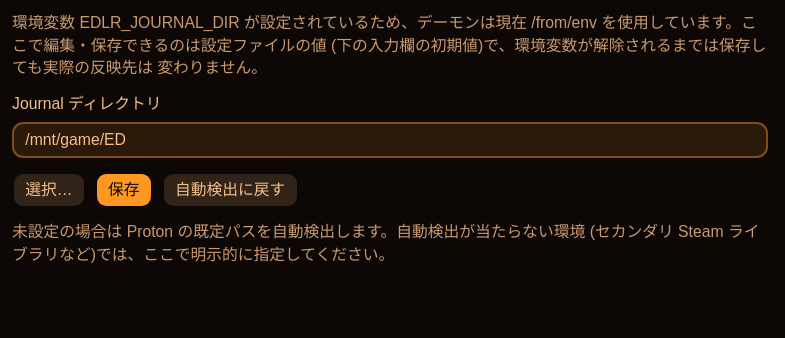
Test: env override 中のクリア › 自動検出ではなく環境変数が使われ続けると伝える
The width and height of the screenshot is (785, 338).
expect the field showing "/mnt/game/ED" is shown: met, box [12, 122, 768, 158]
Step 1. Click the button "自動検出に戻す" → (230,190), box [162, 172, 299, 208]
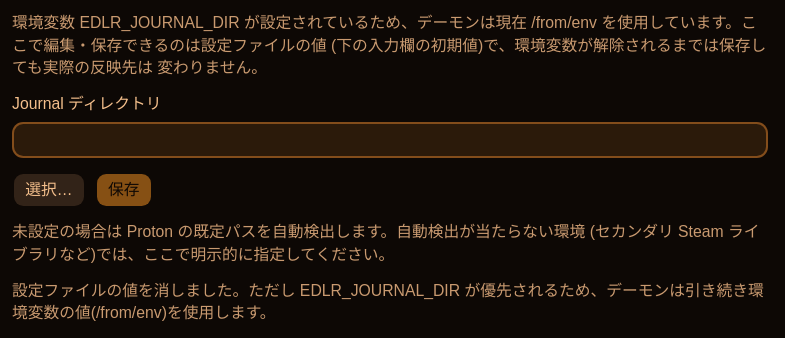
expect the text "引き続き環境変数の値" is shown: met, box [12, 282, 764, 321]
